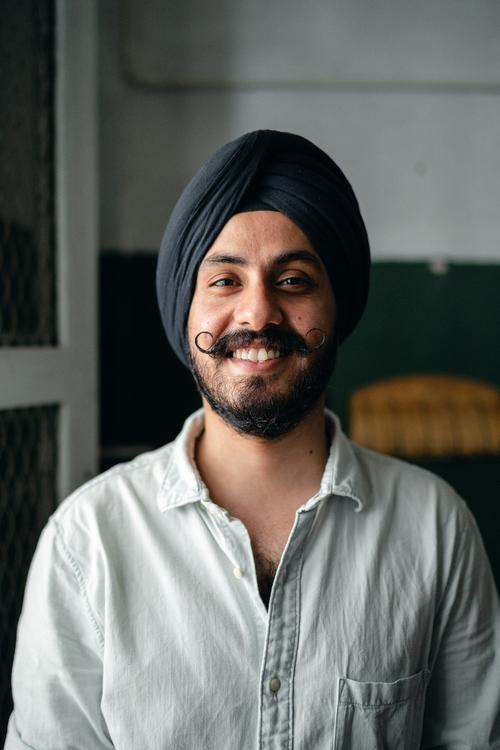no_mask: (183, 188, 347, 430)
